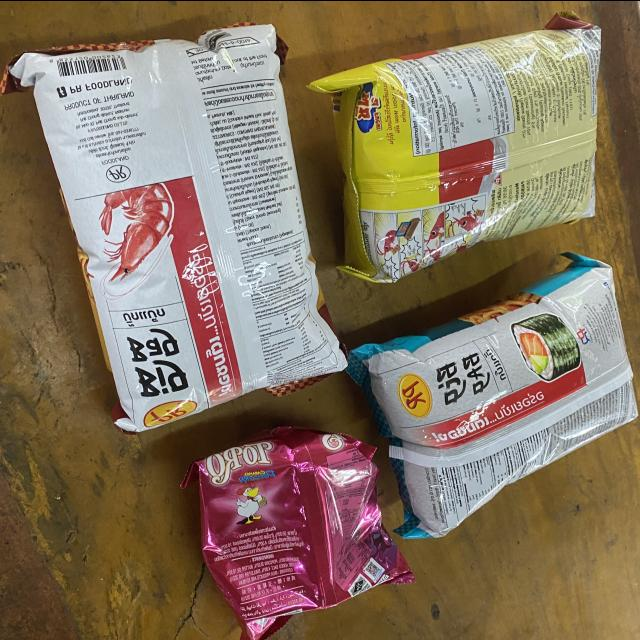plastik: (3, 25, 347, 433), (348, 252, 637, 538), (310, 12, 600, 281), (183, 426, 414, 640)
